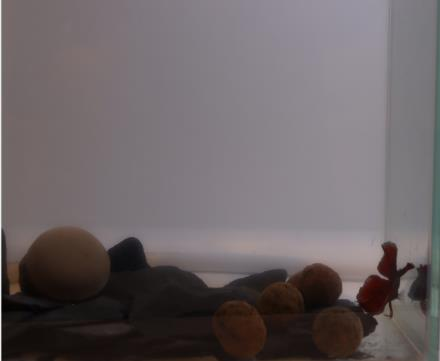fish: (351, 239, 412, 320)
